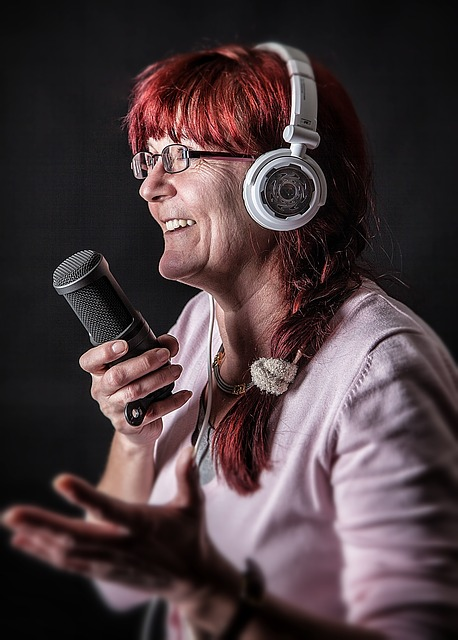headphones: (244, 43, 328, 231)
